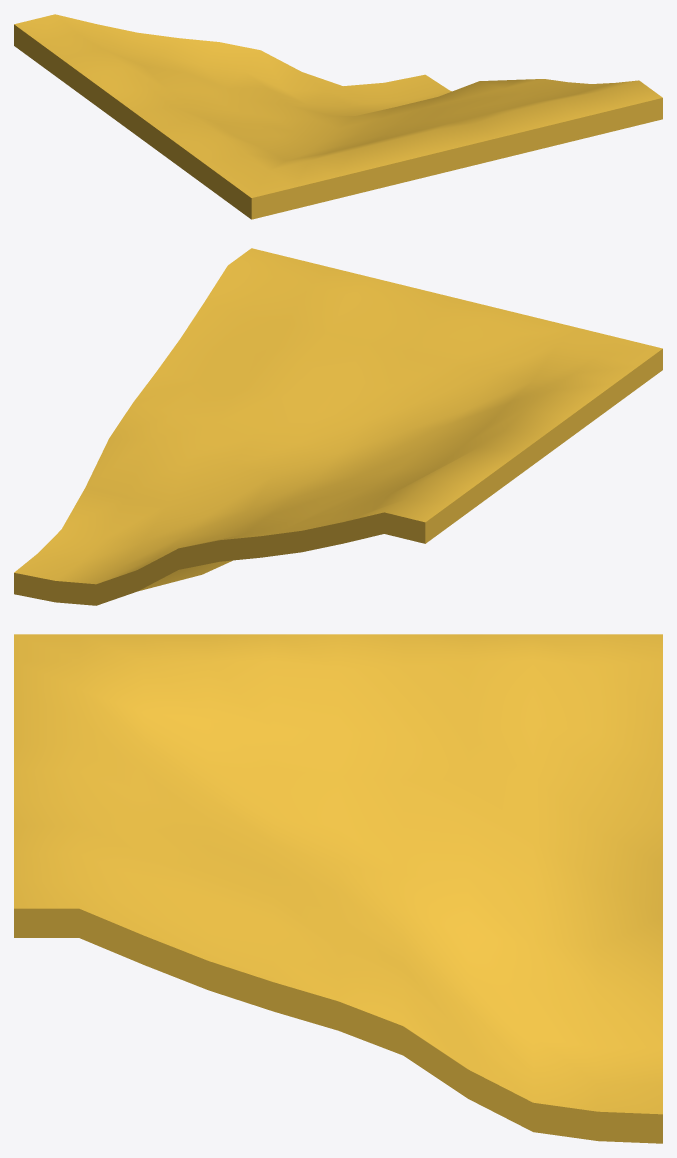
File: Flach - Mitte - Ecke Invertiert a - a.fbx
3 views of the same model, one above another, from view 1: azimuth 30°, elevation 25°; view 2: azimuth 150°, elevation 25°; view 3: azimuth 270°, elevation 25° (orthographic). The views are drawn at different scales.
Visible parts, largest first — view 1: Flach - Mitte - Ecke Invertiert a - a; view 2: Flach - Mitte - Ecke Invertiert a - a; view 3: Flach - Mitte - Ecke Invertiert a - a.
Part boxes in pixels (box(x1,y1,x2,y2)): Flach - Mitte - Ecke Invertiert a - a: box(14, 14, 662, 219); Flach - Mitte - Ecke Invertiert a - a: box(14, 248, 662, 605); Flach - Mitte - Ecke Invertiert a - a: box(14, 634, 662, 1143).
Bounding box in the file's own units: 394 × 157 × 394.
